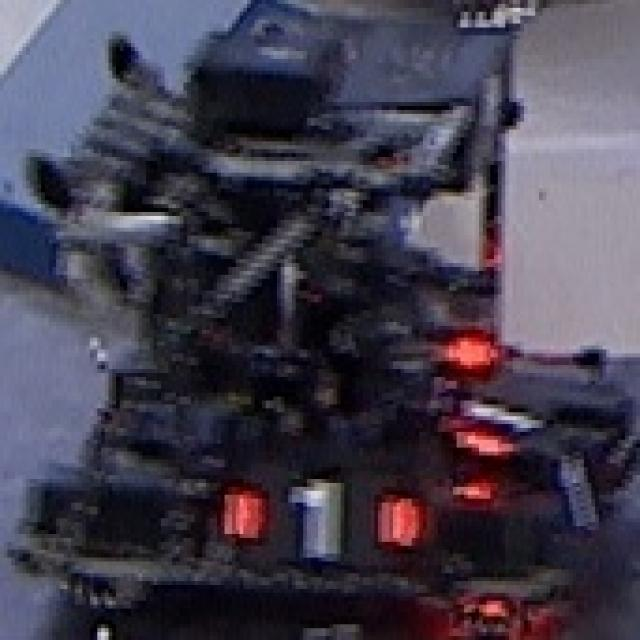R1: (221, 471, 419, 562)
